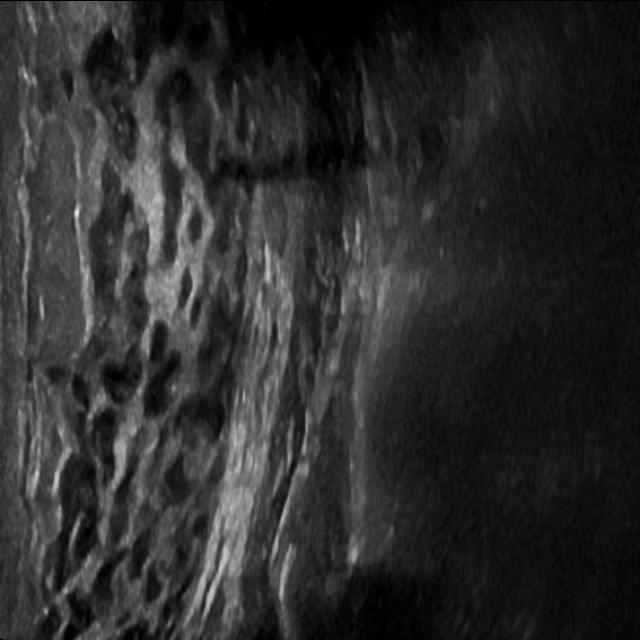Normal: (17, 27, 616, 610)
